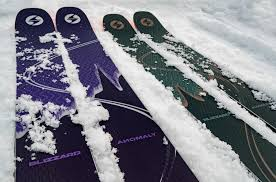skis: (10, 5, 199, 182), (101, 10, 276, 182)
